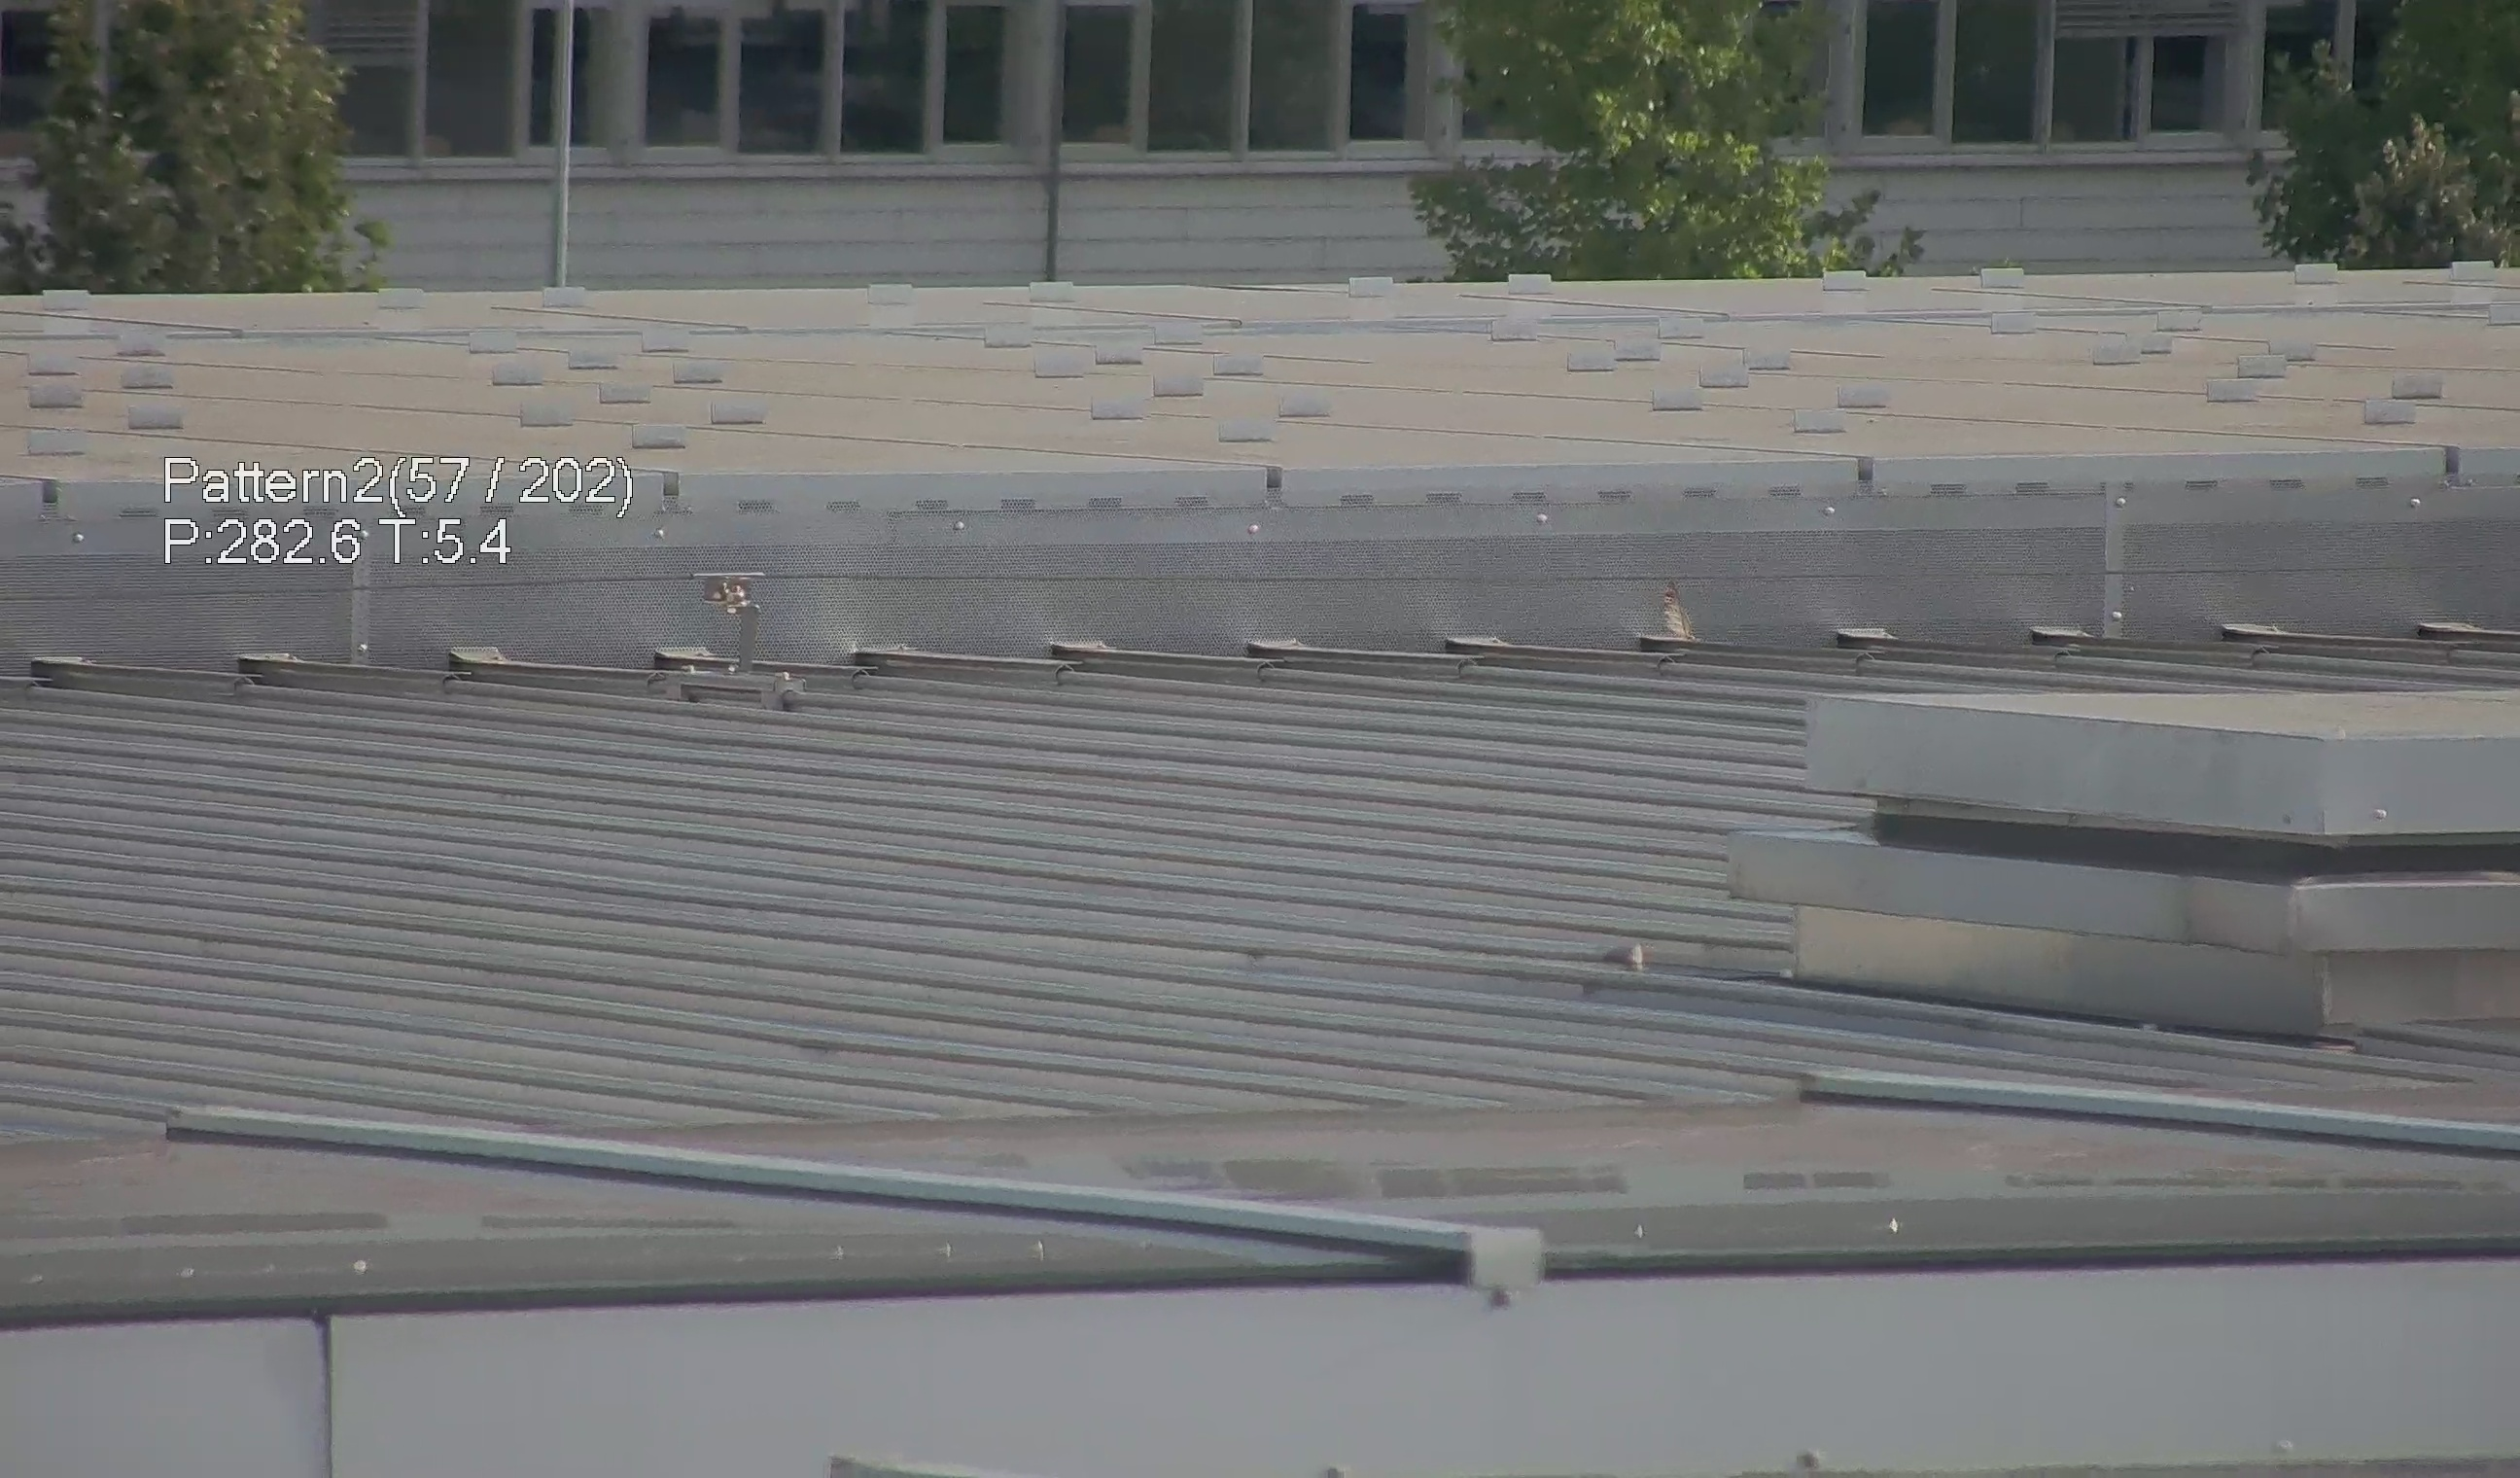Other: (1641, 567, 1709, 653)
